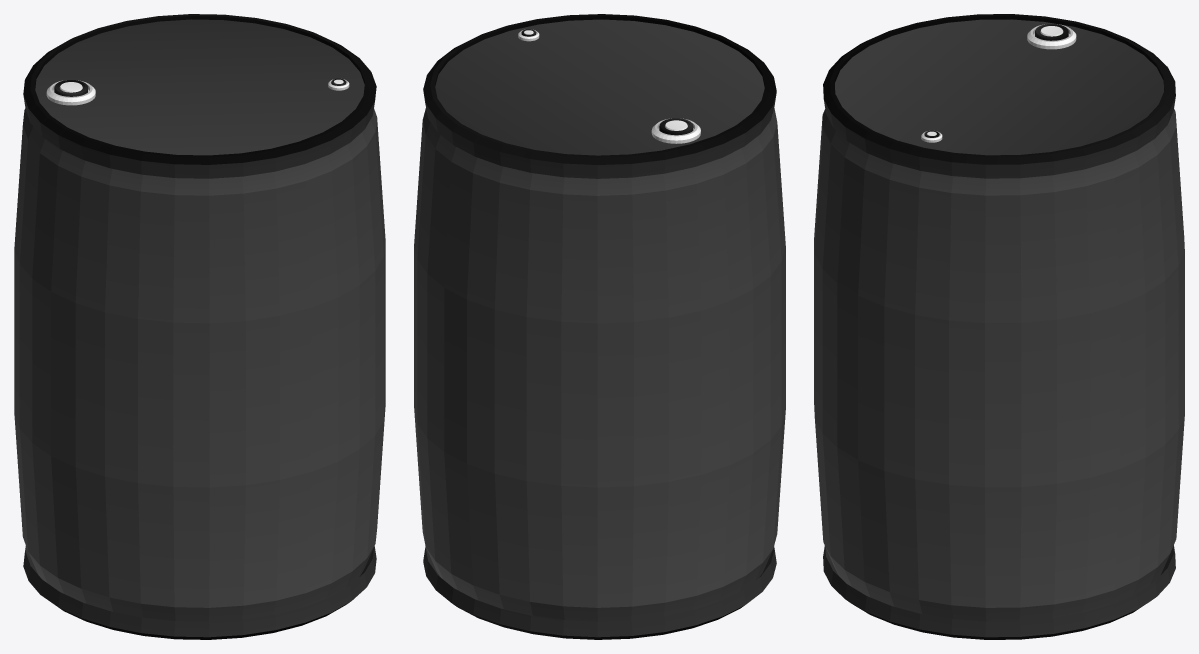
Rendered from Water Barrel #4.fbx.
3 renders of one model, left to right at view 1: azimuth 30°, elevation 25°; view 2: azimuth 150°, elevation 25°; view 3: azimuth 270°, elevation 25°, orthographic.
Parts seen in each view (by area): view 1: Water/Other Barrel #2; view 2: Water/Other Barrel #2; view 3: Water/Other Barrel #2.
Boxes of the visible parts, x1,y1,x2,y2 form: Water/Other Barrel #2: [14, 14, 385, 639]; Water/Other Barrel #2: [414, 14, 785, 639]; Water/Other Barrel #2: [814, 14, 1184, 639].
Size of the model in its own units: 424 by 292 by 292.
1 material, 1 textured.
